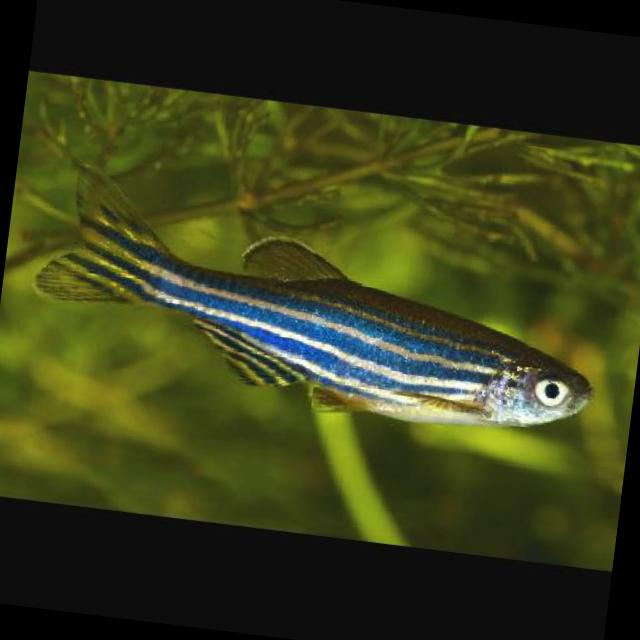ZebraFish: (29, 150, 616, 444)
